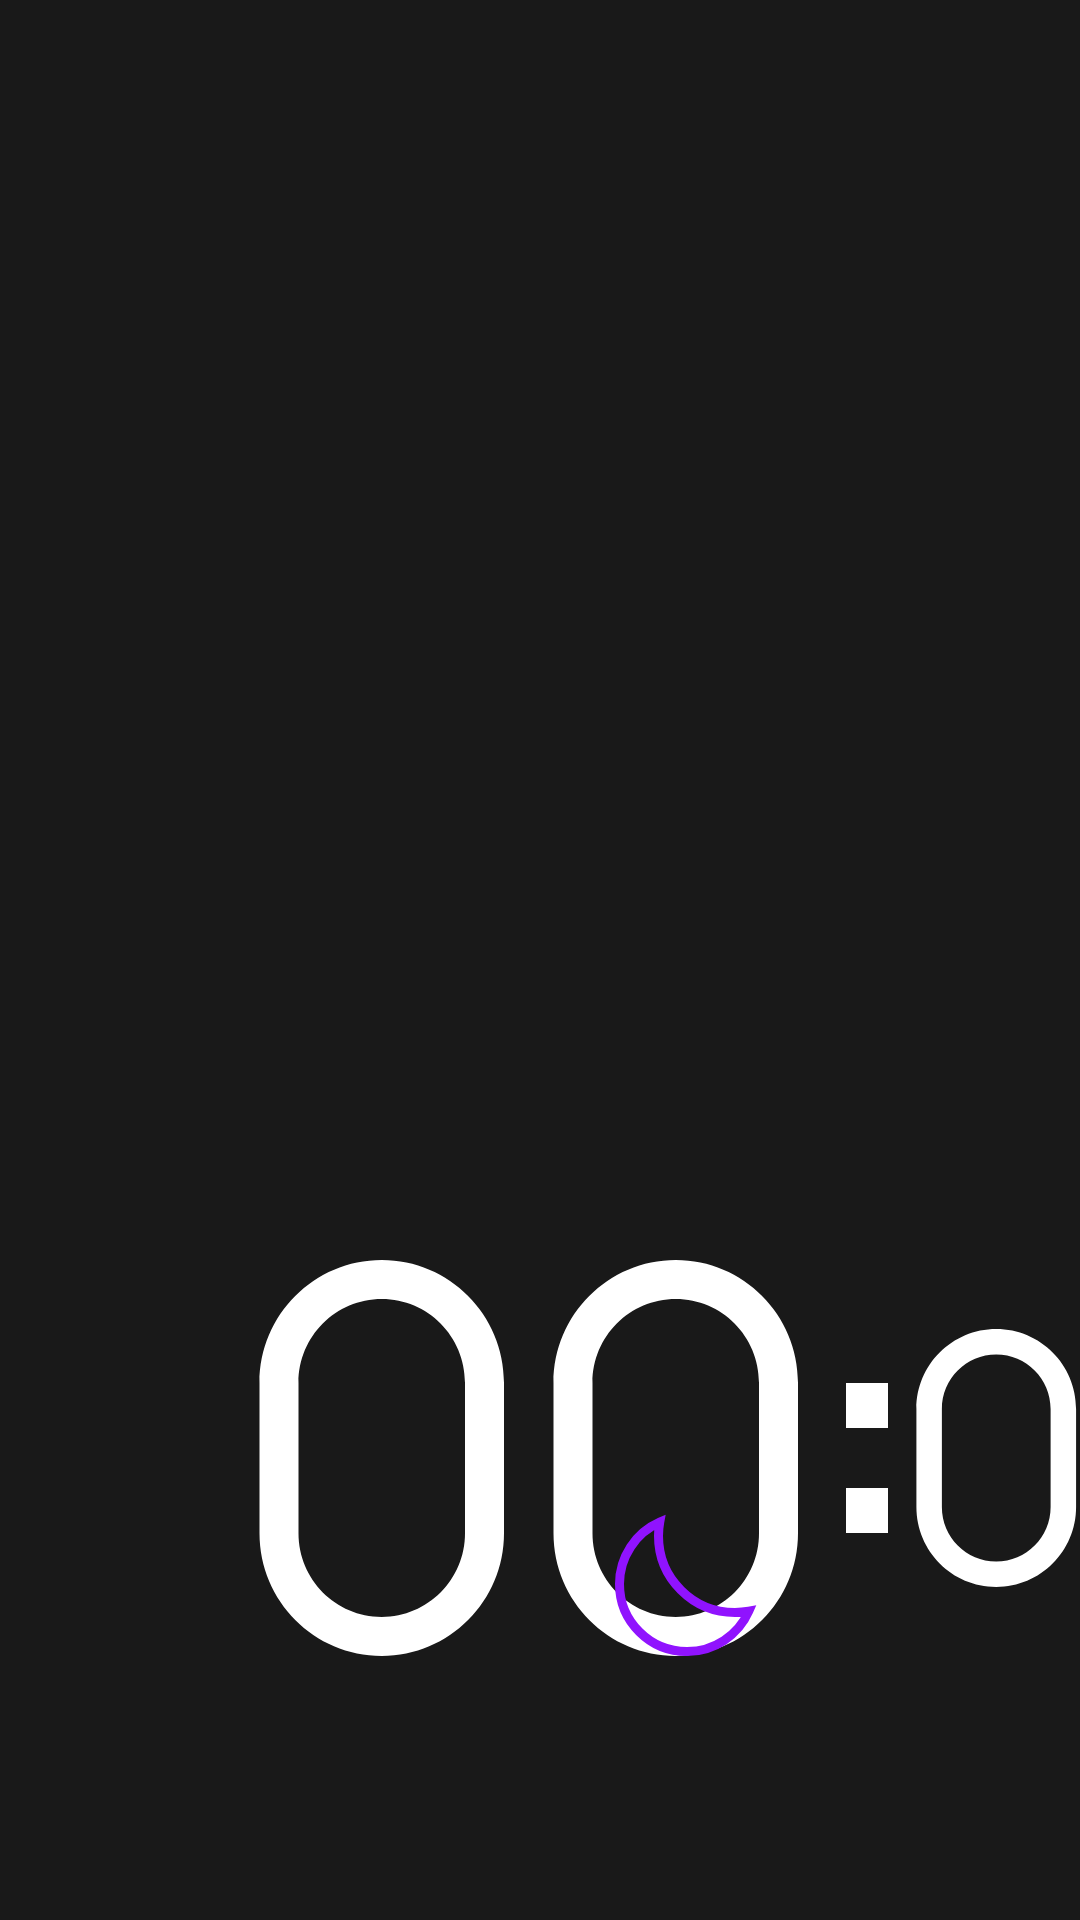

Icon click points for this 1080px x 1920px phone screenshot, format [x,y]:
time colon: [867,1458]
